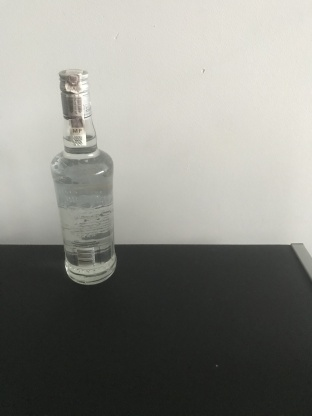nakretka: (57, 67, 93, 120)
